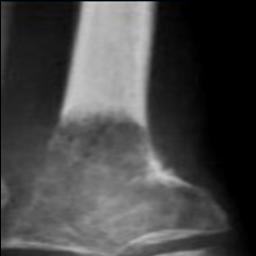cancer: (5, 119, 227, 249)
